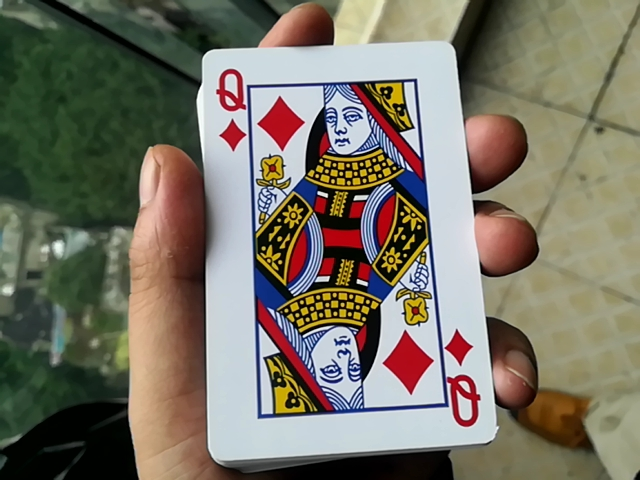fk q: (171, 45, 495, 460)
